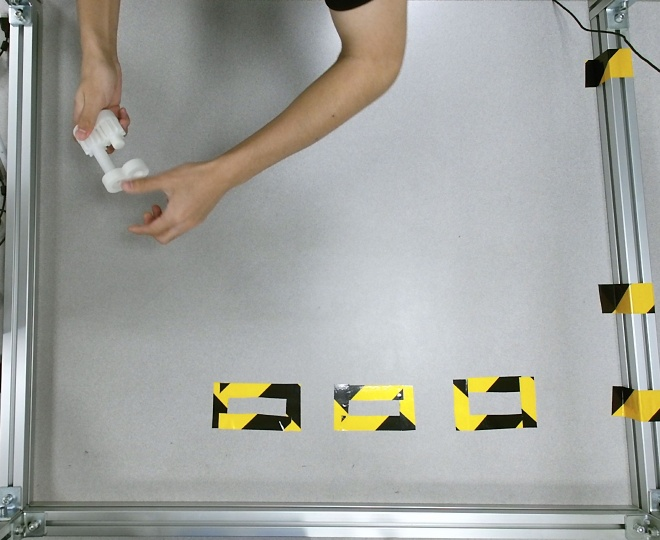stage_3: (73, 108, 126, 180)
